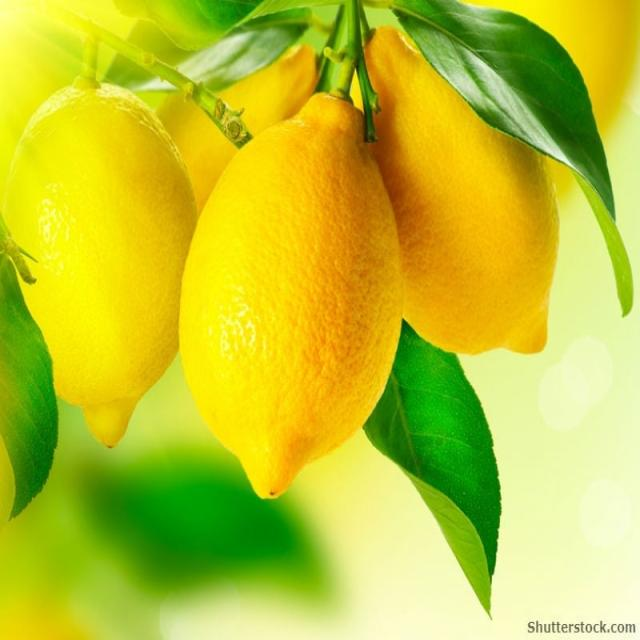lemon: (177, 94, 405, 496), (351, 22, 583, 370), (6, 73, 190, 445)
